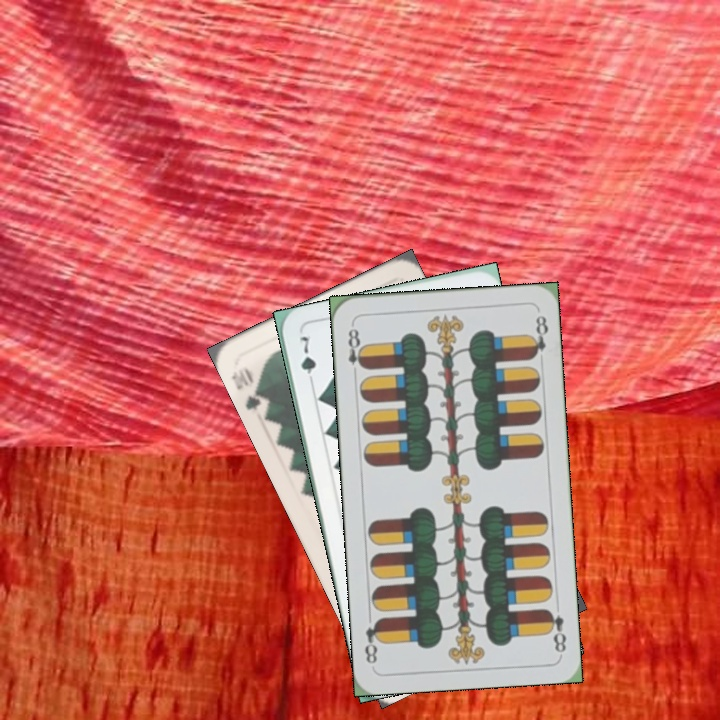E8: (344, 320, 368, 379), (542, 605, 569, 655)
G10: (228, 364, 269, 413)
G7: (296, 330, 319, 389)
